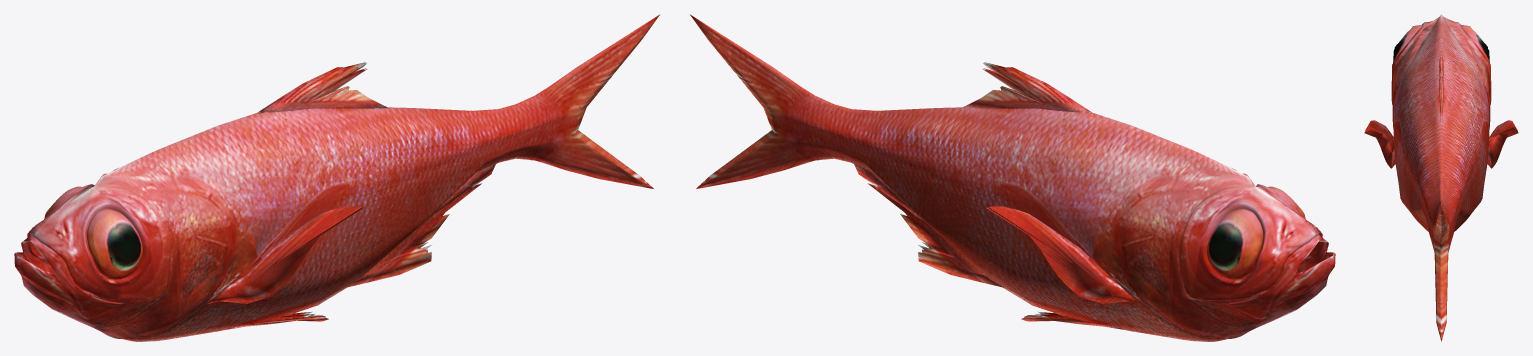
Rendered from Red-Fish.fbx.
3 views of the same model, side by side, from view 1: azimuth 30°, elevation 25°; view 2: azimuth 150°, elevation 25°; view 3: azimuth 270°, elevation 25° (orthographic). The views are drawn at different scales.
Visible parts, largest first — view 1: Red-Fish; view 2: Red-Fish; view 3: Red-Fish.
Boxes of the visible parts, <box> form: Red-Fish: <box>14,14,659,341</box>; Red-Fish: <box>690,14,1335,341</box>; Red-Fish: <box>1364,14,1518,341</box>.
Size of the model in its own units: 19 by 7 by 5.
Materials: 2 (2 with a texture image).
